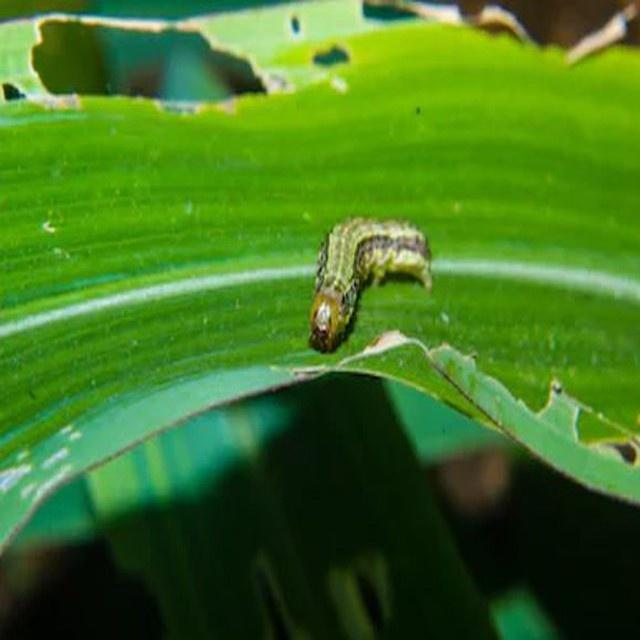worm: (307, 214, 435, 355)
